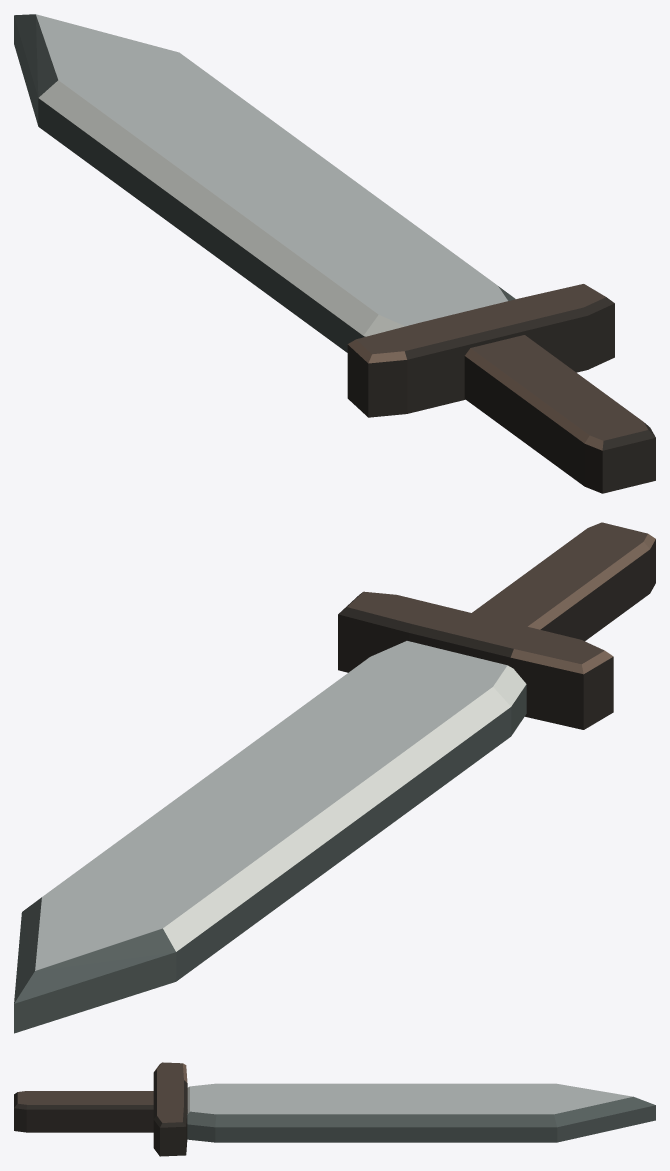
Rendered from stone_sword.fbx.
3 renders of one model, top to bottom at view 1: azimuth 30°, elevation 25°; view 2: azimuth 150°, elevation 25°; view 3: azimuth 270°, elevation 25°, orthographic. The views are drawn at different scales.
Visible parts, largest first — view 1: stone_sword; view 2: stone_sword; view 3: stone_sword.
Part boxes in pixels (left/top/right/bottom): stone_sword: left=14, top=14, right=655, bottom=493; stone_sword: left=14, top=522, right=655, bottom=1033; stone_sword: left=14, top=1062, right=655, bottom=1156.
Size of the model in its own units: 0.6 by 0.14 by 2.55.
Materials: 1 (1 with a texture image).
